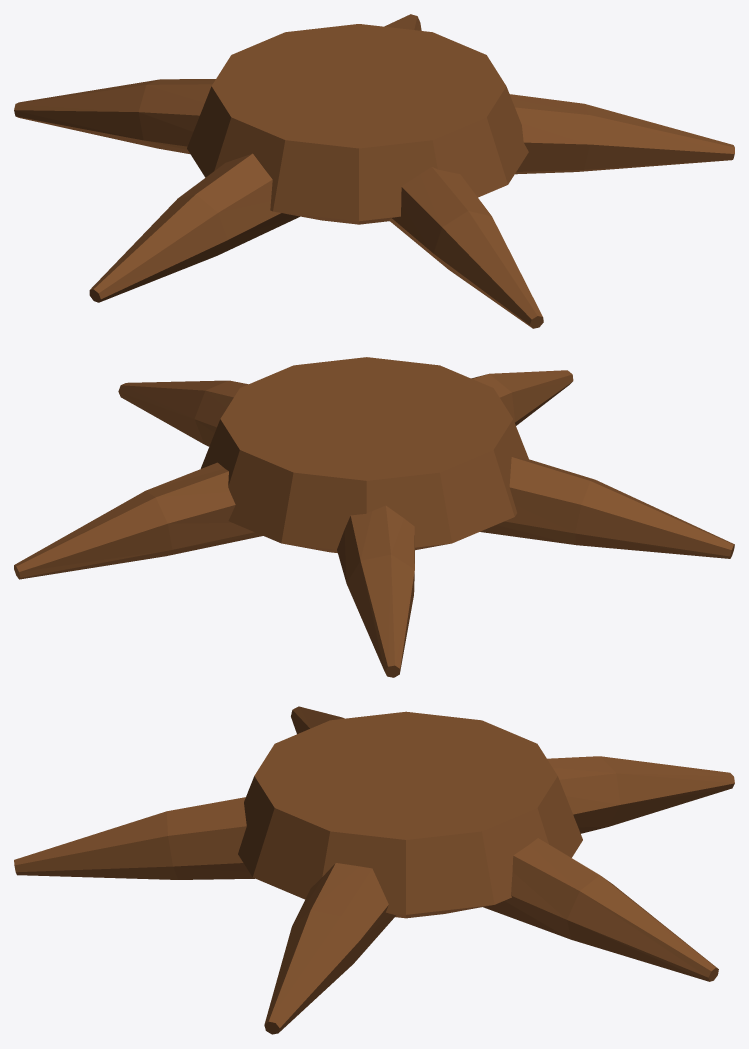
Rendered from Taproot.obj.
3 views of the same model, one above another, from view 1: azimuth 30°, elevation 25°; view 2: azimuth 150°, elevation 25°; view 3: azimuth 270°, elevation 25° (orthographic). The views are drawn at different scales.
Visible parts, largest first — view 1: Taproot_Root; view 2: Taproot_Root; view 3: Taproot_Root.
Boxes of the visible parts, left/top/right/bottom form: Taproot_Root: left=14, top=14, right=734, bottom=328; Taproot_Root: left=14, top=357, right=734, bottom=677; Taproot_Root: left=14, top=706, right=734, bottom=1034.
Bounding box in the file's own units: 3.7 × 0.6 × 3.56.
